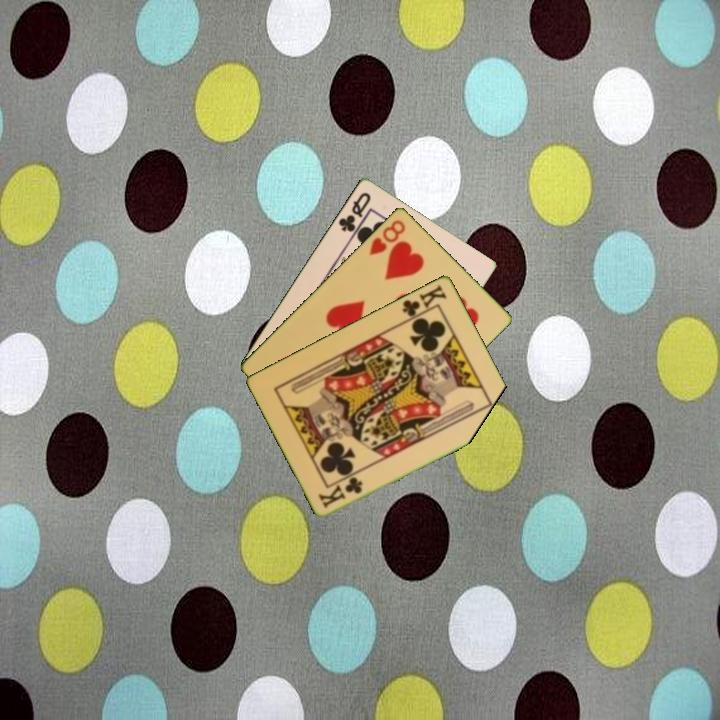8h: (365, 216, 408, 258)
Kc: (399, 281, 450, 324), (315, 473, 366, 511)
Qc: (334, 188, 374, 240)
